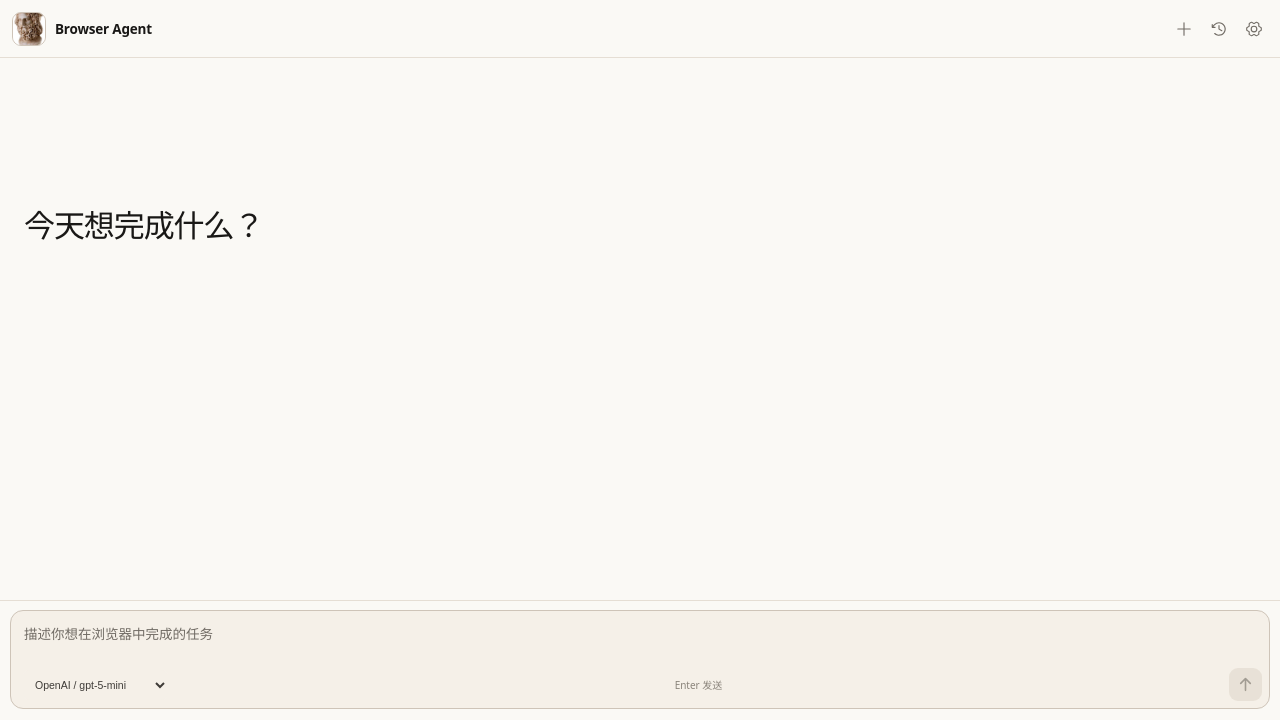
Browser Agent 侧边栏 › 连接浏览器会话并把任务发送给后端
Click the button named "新建会话".
click(1184, 28)  # box [1167,12,1201,46]
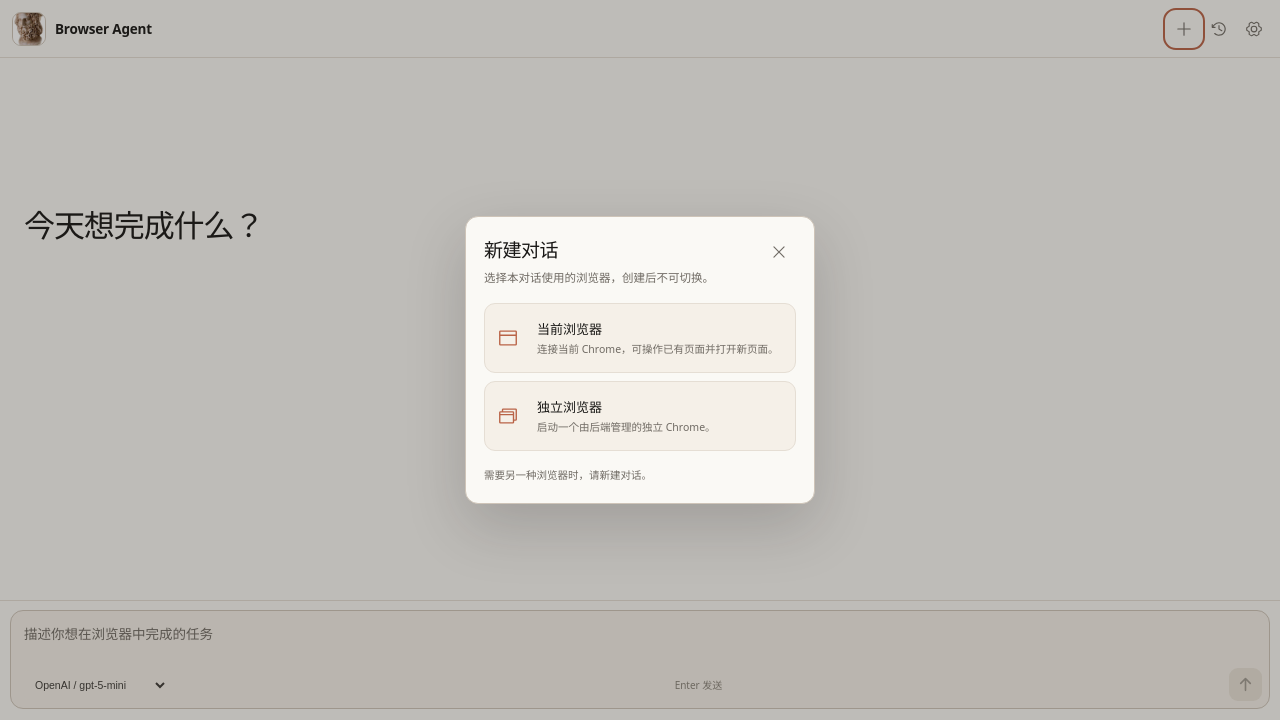
Click the button with aria-label "使用独立浏览器".
click(570, 407)  # box [484,381,796,451]
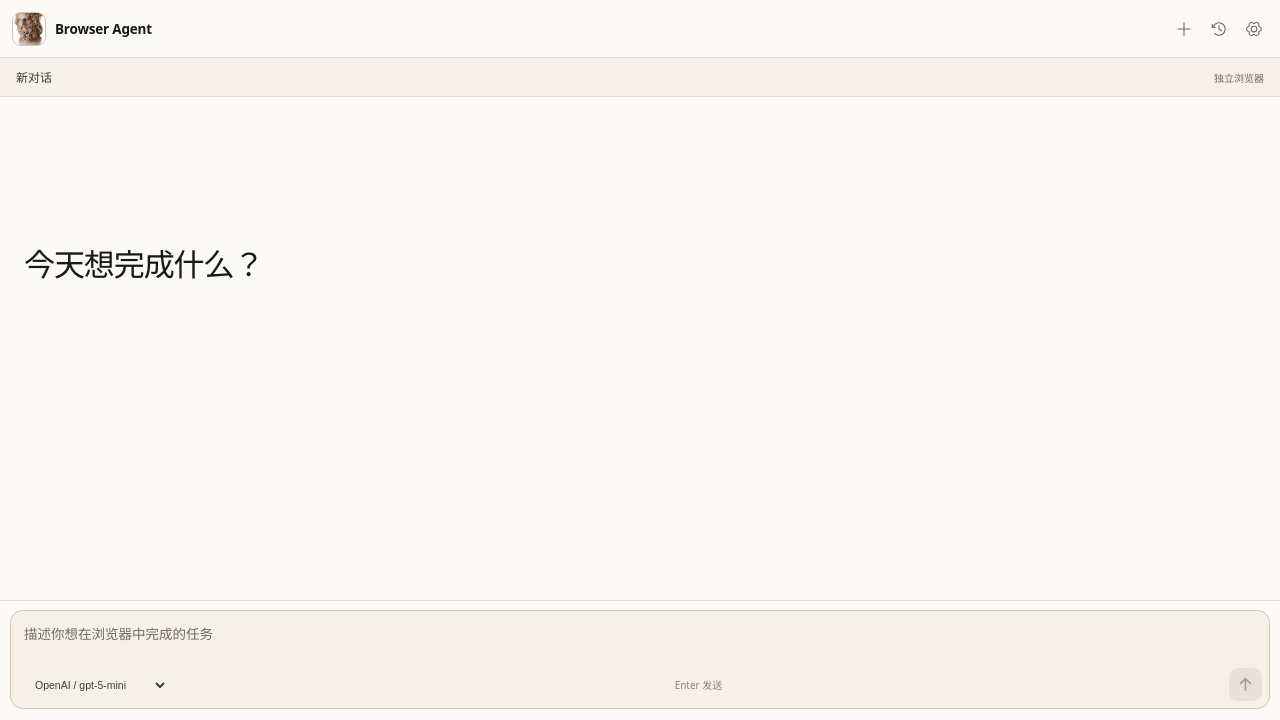
Expected: the dialog "选择浏览器" is gone
Type "整理当前页面" into the text box named "任务内容".
click(640, 638); type("整理当前页面")  # box [11,611,1269,665]
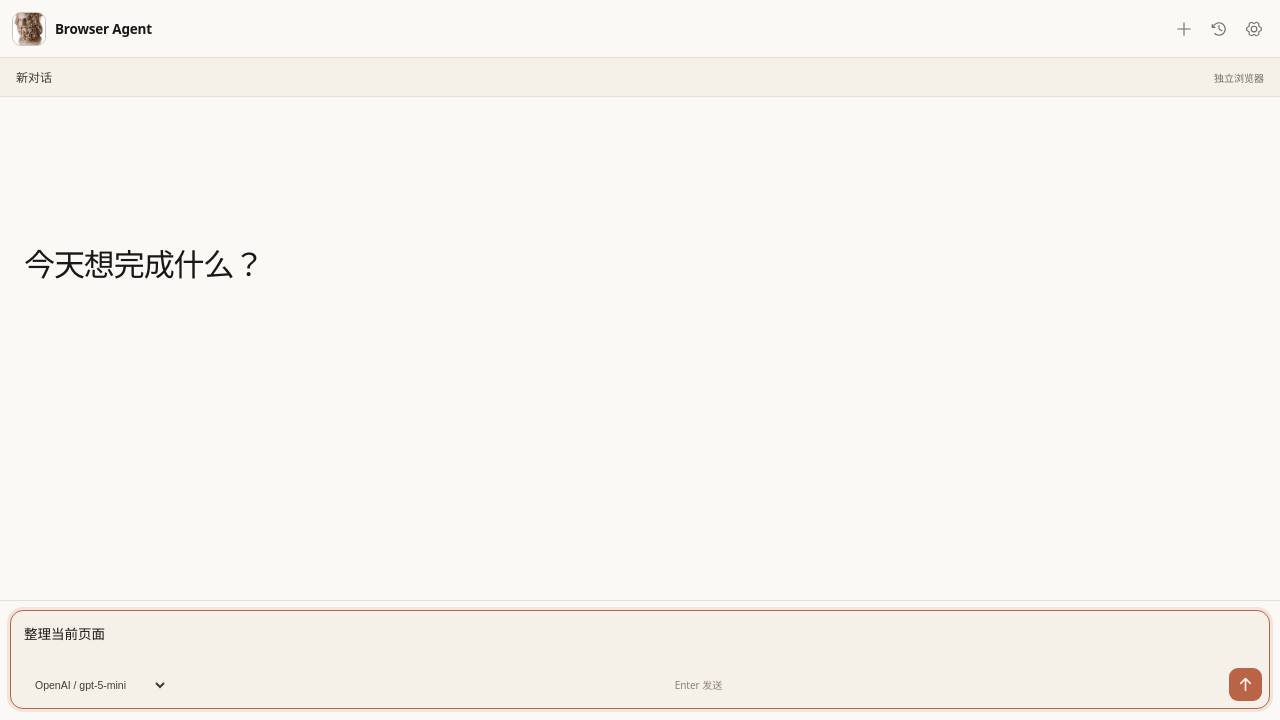
Click the button named "发送任务".
click(1246, 684)  # box [1229,668,1262,701]
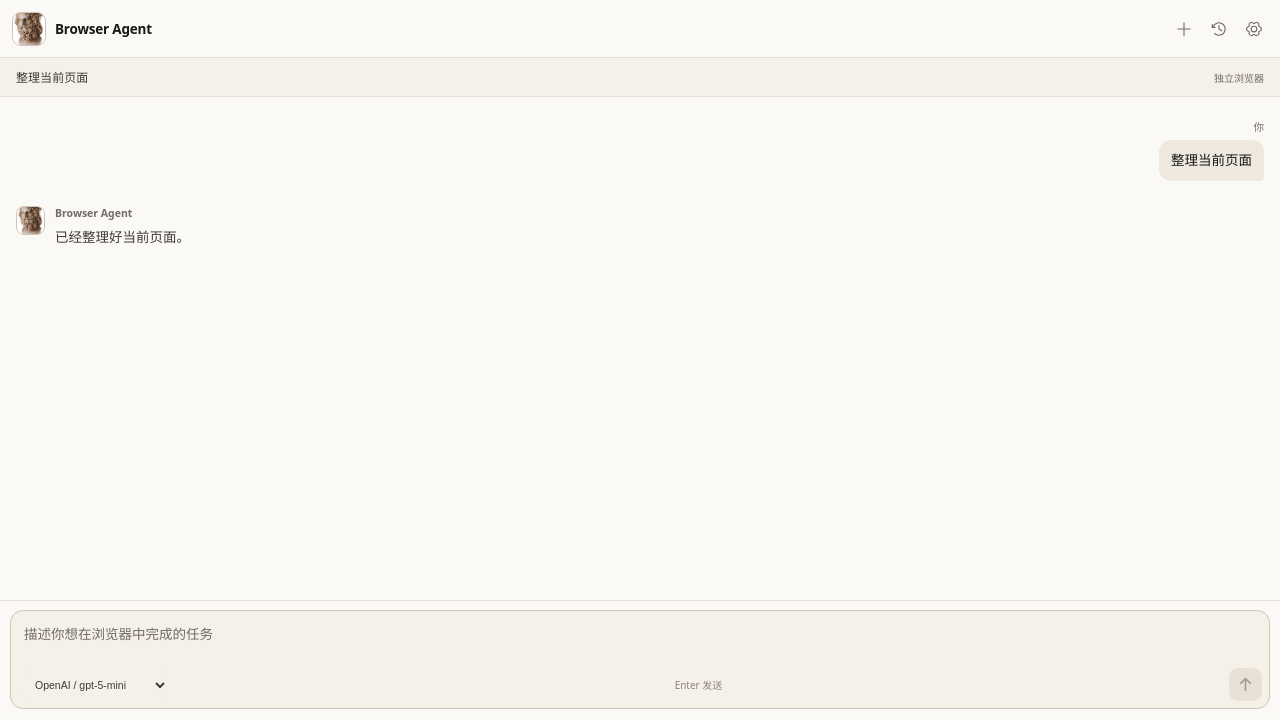
Expected: the text "已经整理好当前页面。" is shown, [55,226,190,248]
